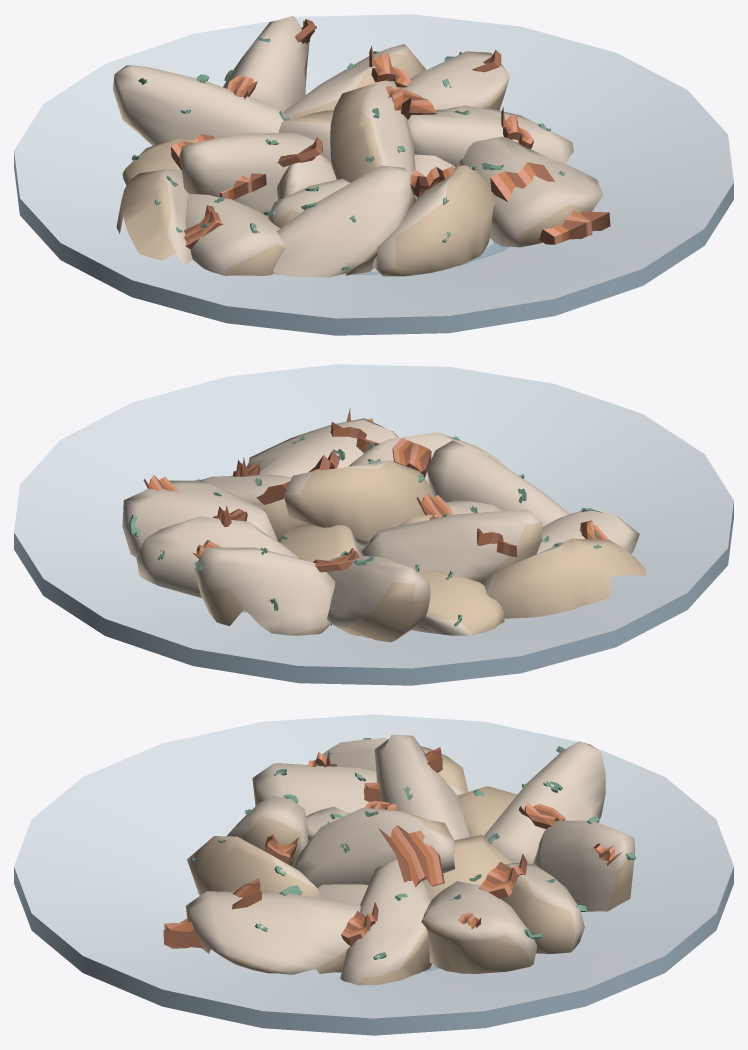
The model's file is PotatoSalad.obj.
The picture shows the model from 3 angles, top to bottom: view 1: azimuth 30°, elevation 25°; view 2: azimuth 150°, elevation 25°; view 3: azimuth 270°, elevation 25°; orthographic projection.
Parts seen in each view (by area): view 1: PotatoSalad; view 2: PotatoSalad; view 3: PotatoSalad.
Boxes of the visible parts, left/top/right/bottom form: PotatoSalad: left=14, top=14, right=733, bottom=335; PotatoSalad: left=14, top=364, right=733, bottom=685; PotatoSalad: left=14, top=714, right=733, bottom=1035.
Bounding box in the file's own units: 0.8776 × 0.1919 × 0.8776.
Materials: 3 (3 with a texture image).
